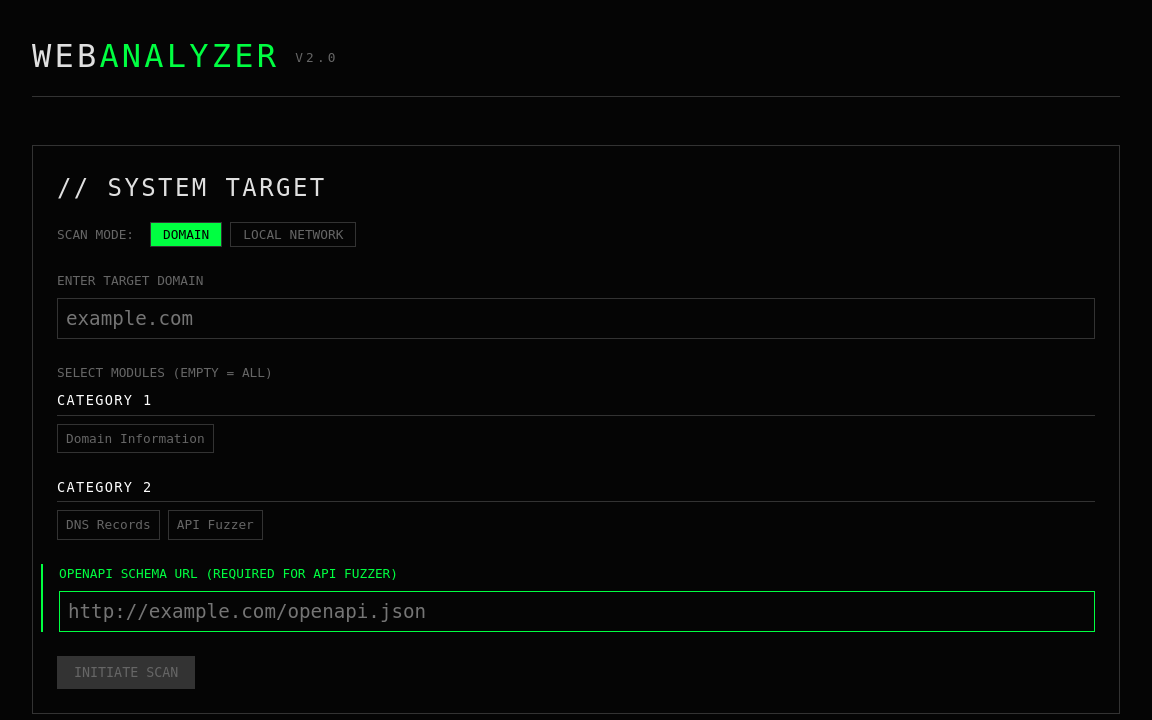
Test: App Component › shows schema input when API Fuzzer is selected
Expected: the field with test id "schema-input" is shown, [59, 591, 1095, 632]
Click the text "DNS Records": {"x": 108, "y": 525} [57, 510, 160, 540]
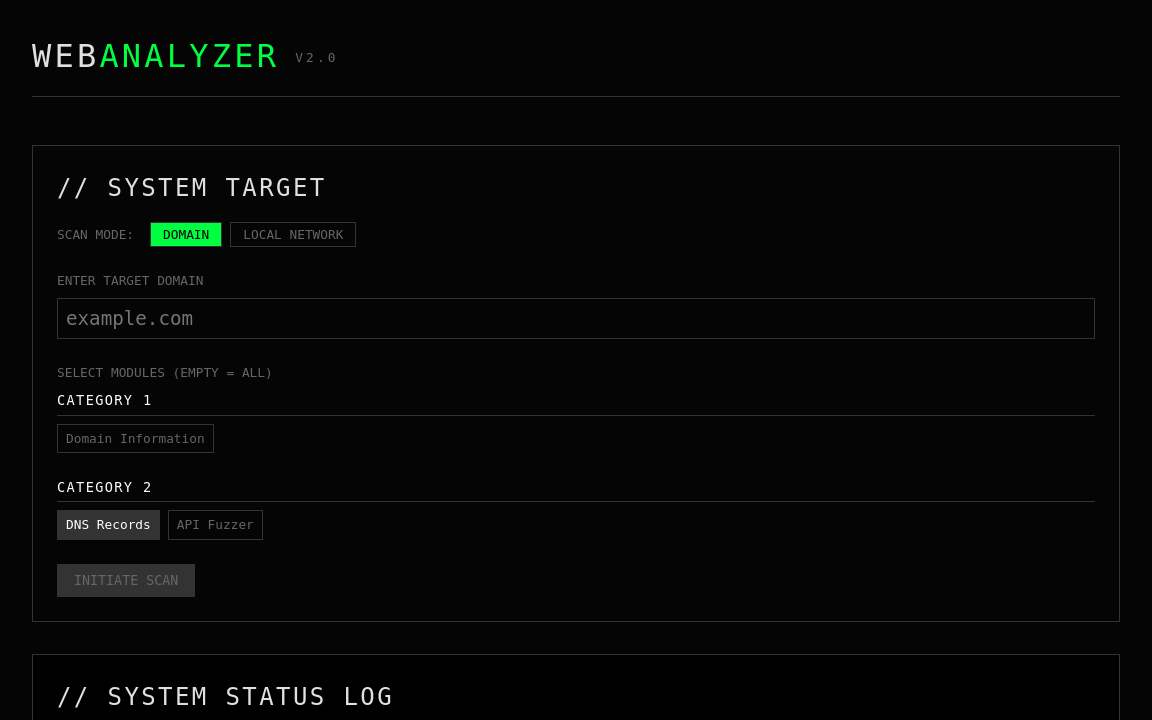
Expected: the field with test id "schema-input" is gone
Click the text "API Fuzzer": {"x": 215, "y": 525} [168, 510, 263, 540]
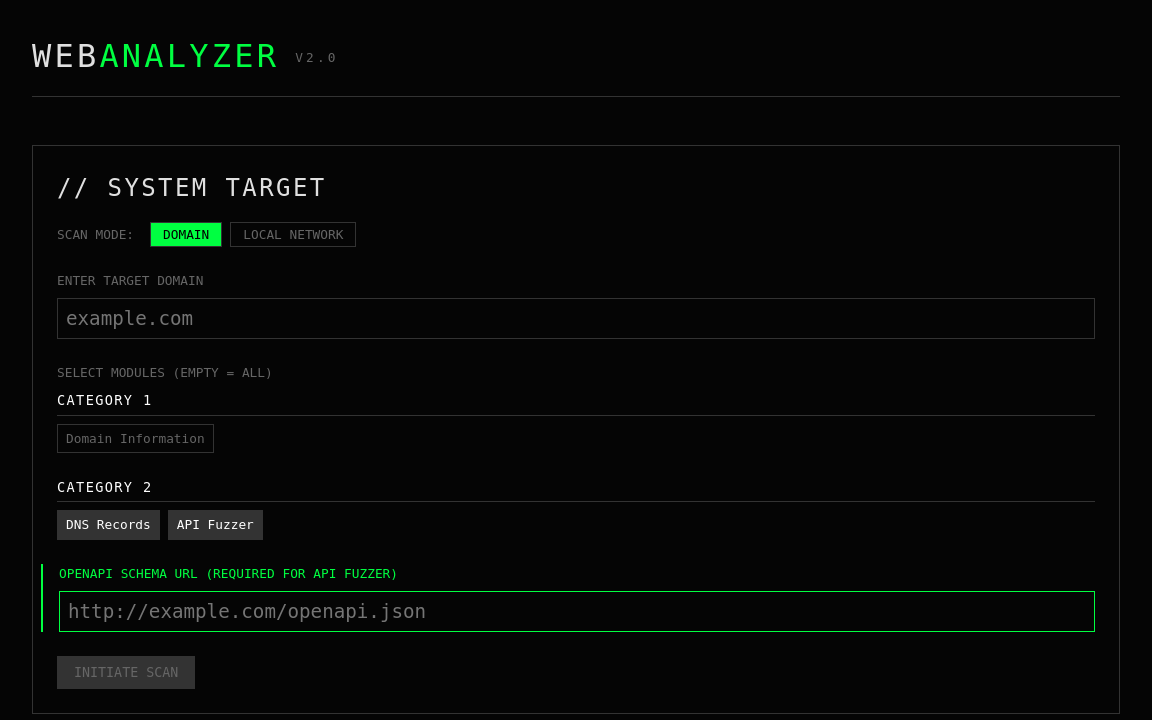
Expected: the field with test id "schema-input" is shown, [59, 591, 1095, 632]
